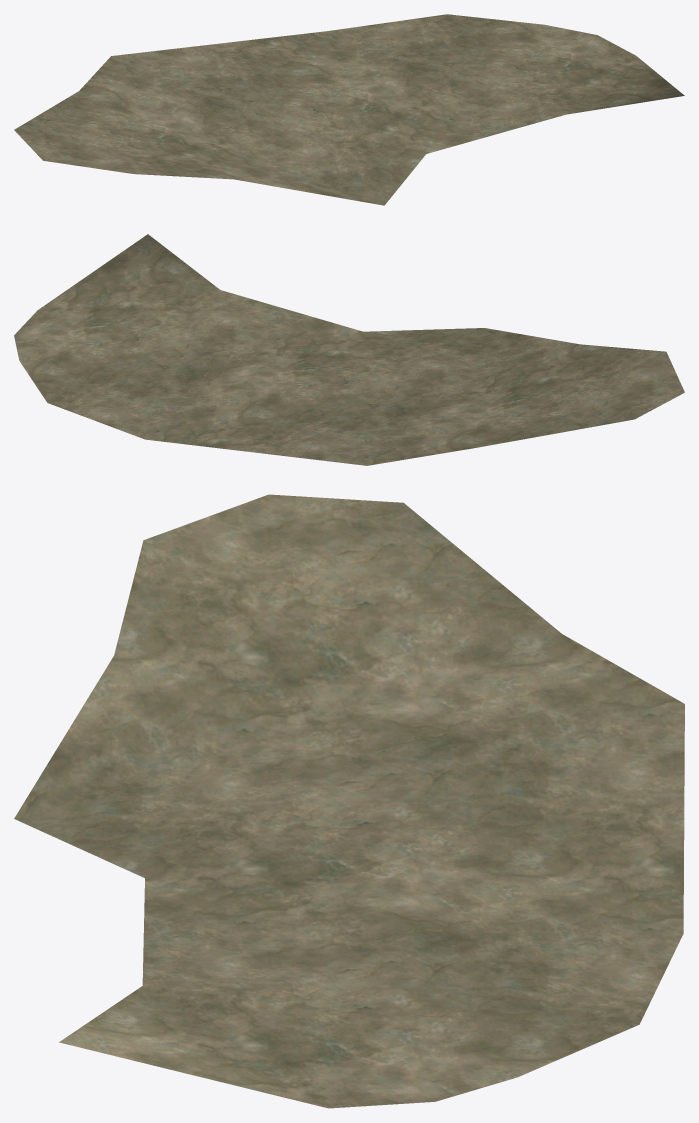
Rendered from OVERHILL_A_01_LINE05.fbx.
The picture shows the model from 3 angles, top to bottom: view 1: azimuth 30°, elevation 25°; view 2: azimuth 150°, elevation 25°; view 3: azimuth 270°, elevation 25°; orthographic projection. The views are drawn at different scales.
Visible parts, largest first — view 1: OVERHILL_A_01_LINE05; view 2: OVERHILL_A_01_LINE05; view 3: OVERHILL_A_01_LINE05.
Boxes of the visible parts, x1,y1,x2,y2 form: OVERHILL_A_01_LINE05: (14, 14, 684, 205); OVERHILL_A_01_LINE05: (14, 234, 684, 465); OVERHILL_A_01_LINE05: (14, 494, 684, 1108).
Bounding box in the file's own units: 60190 × 5323 × 33069.
Materials: 1 (1 with a texture image).
